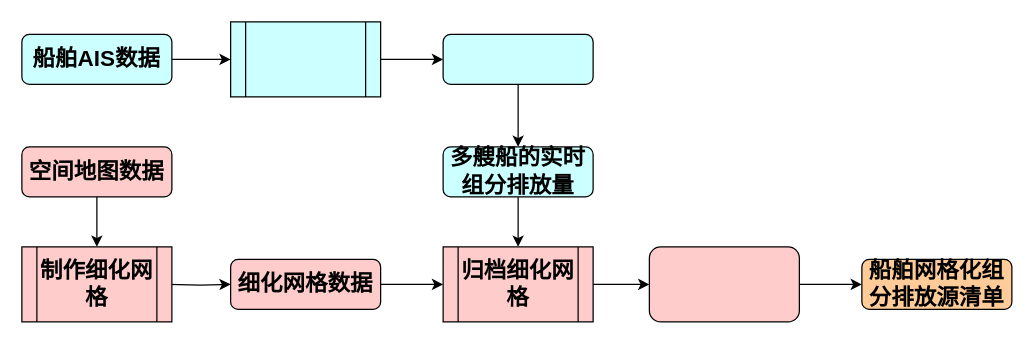
The diagram is 1034 pixels wide and 344 high, and some of its shapes have lost their labels. Each missing label, with the centre of its shape:
"STEAM2 模型" goes at (x=305, y=59).
"一艘船的实时组分排放量" goes at (x=517, y=58).
"网格化组分 排放量" goes at (x=723, y=284).
